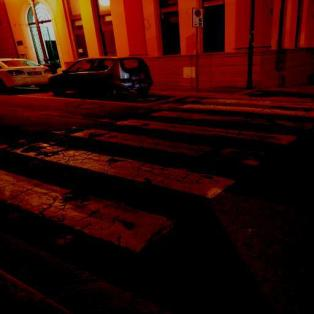Paso de Cebra: (69, 118, 301, 170)
